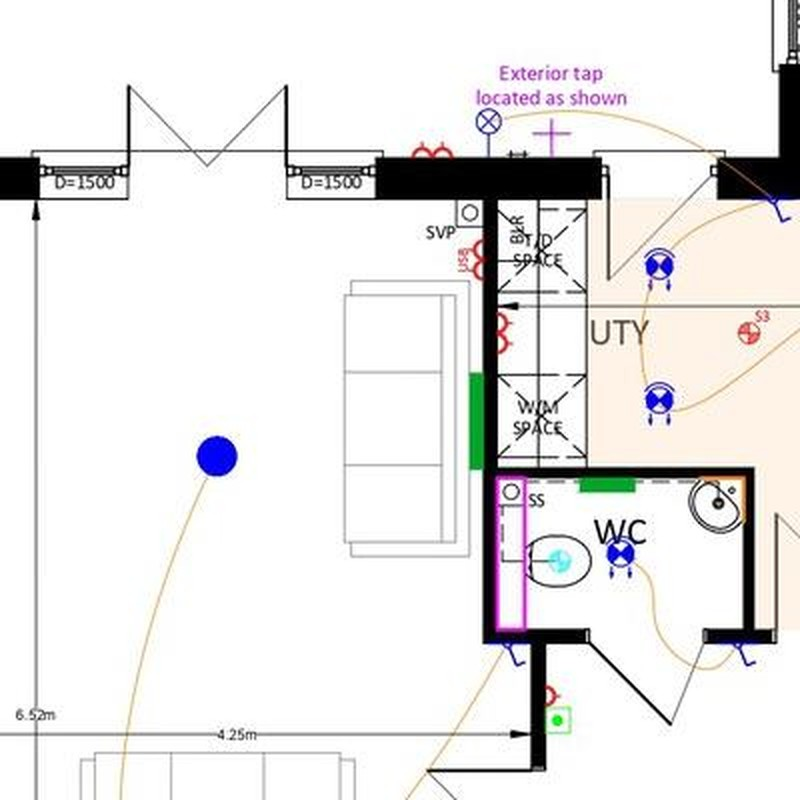Ceiling Mounted Continuous Extract FanWith Boost Mode Activated By Light Switch: (550, 550, 572, 572)
Ceiling Mounted Continuous Extract FanWith Local Boost Switch: (739, 310, 770, 345)
Double Socket: (497, 312, 514, 354), (412, 142, 454, 158)
External Wall Light: (476, 108, 502, 156)
Light Switch: (766, 199, 793, 223), (733, 643, 758, 667), (502, 644, 527, 668)
Low Energy Downlighter: (644, 382, 675, 426), (644, 248, 675, 291), (606, 536, 637, 578)
Low Energy Pendant Light: (197, 436, 237, 477)
Outside Tap: (533, 118, 571, 157)
Programmable Room Thermostat: (545, 707, 571, 734)
Radiator: (469, 373, 483, 469), (579, 478, 635, 493)
Single Socket: (545, 685, 562, 707)
USB Double Socket: (458, 239, 484, 280)
